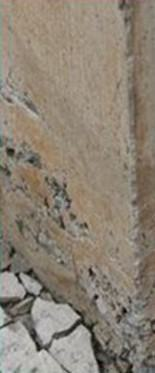Spalling: (1, 134, 91, 266), (87, 267, 155, 373), (1, 88, 40, 117)
